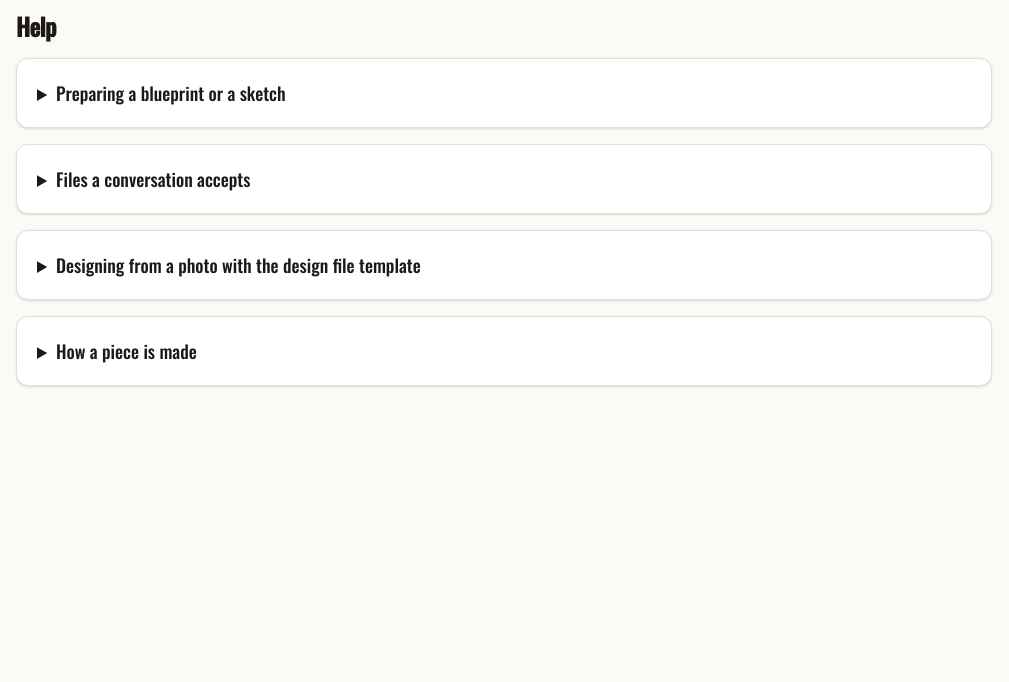
it: a failed copy says to select the text
Click the heading "Designing from a photo with the design file template" at (238, 265), box [56,252,421,278]
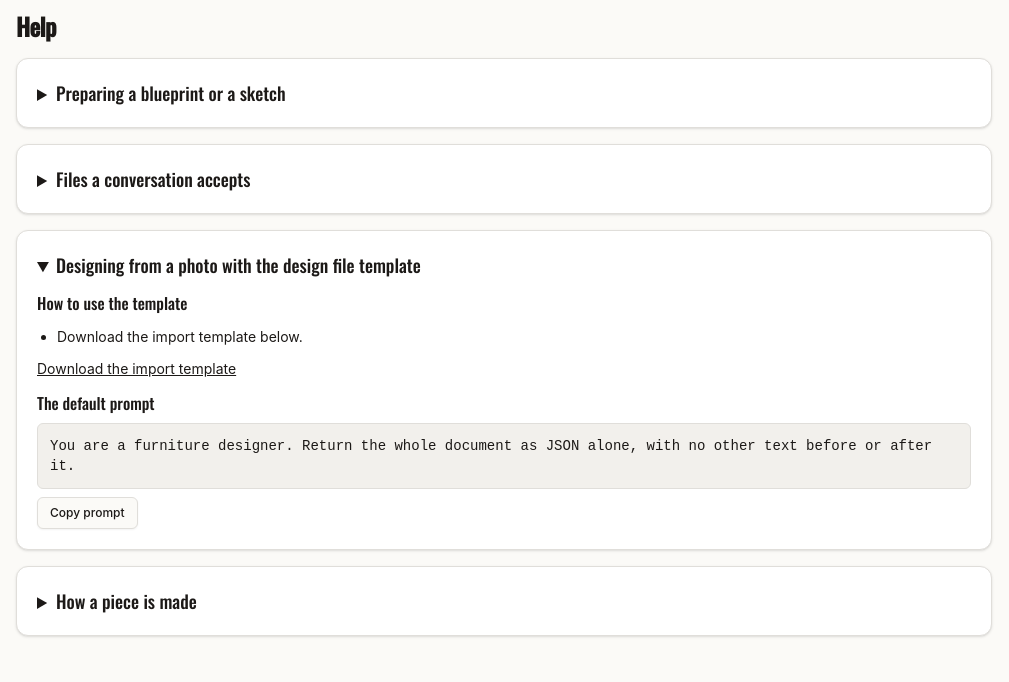
Click the button "Copy prompt" at (87, 513), box [37,497,138,529]
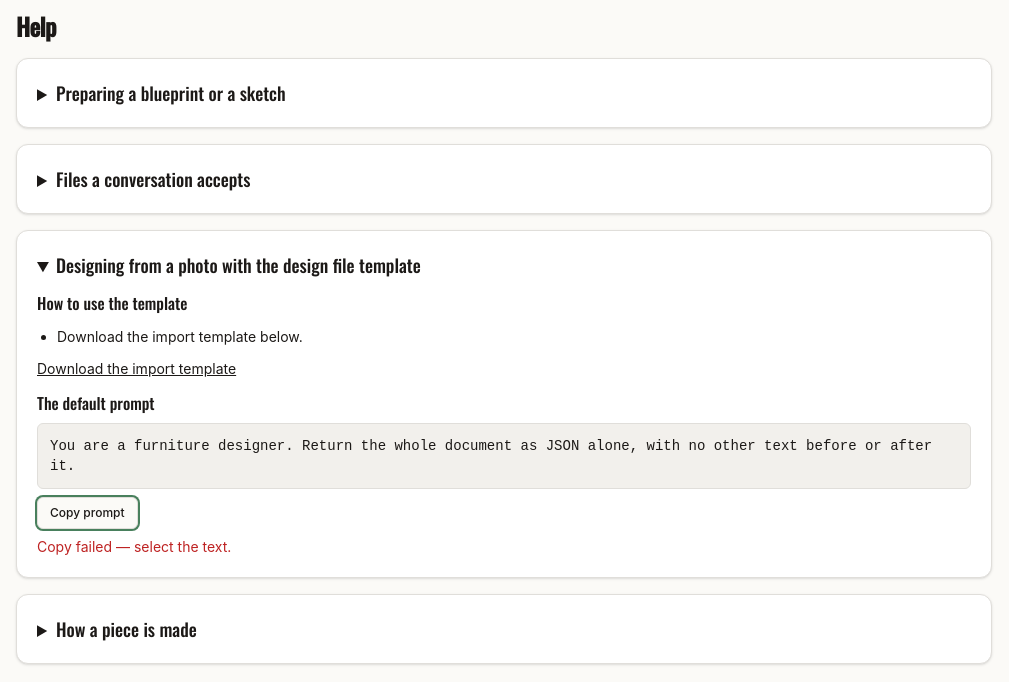
Result: the text "Copy failed — select the text." is shown at [37,538,231,555]
